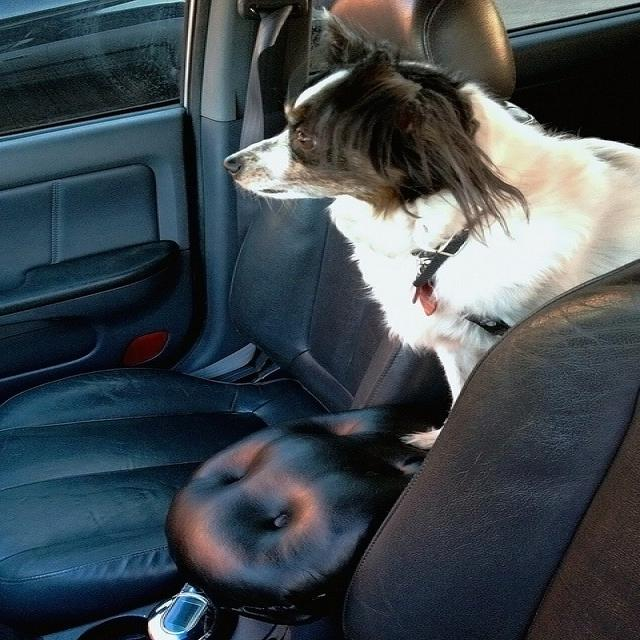dog: (221, 11, 639, 448)
